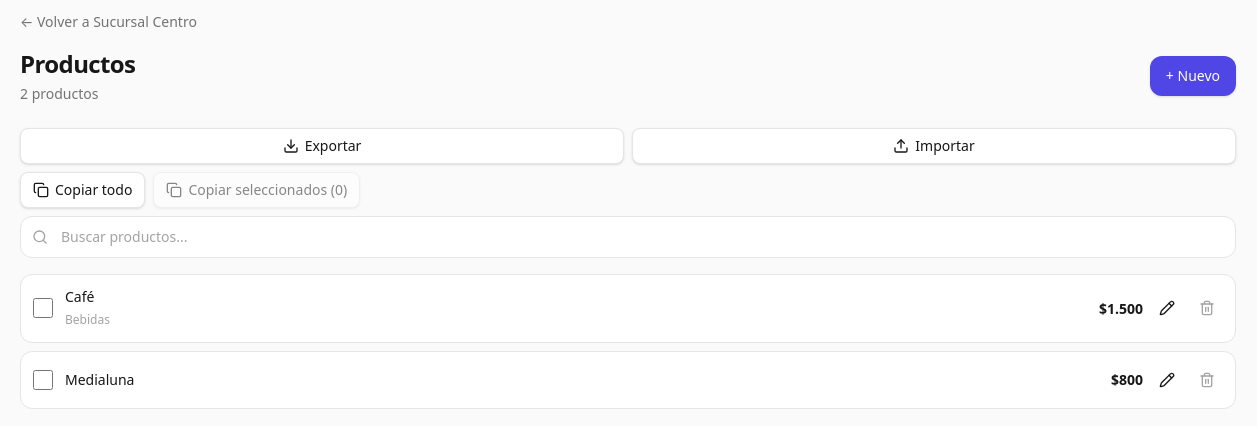
Test: ProductList › should filter products by name
The image size is (1257, 426).
Expected: the text "Café" is shown, [65, 287, 94, 306]
Type "media" into the field with placeholder "Buscar productos..." at (628, 237), box [20, 216, 1236, 258]
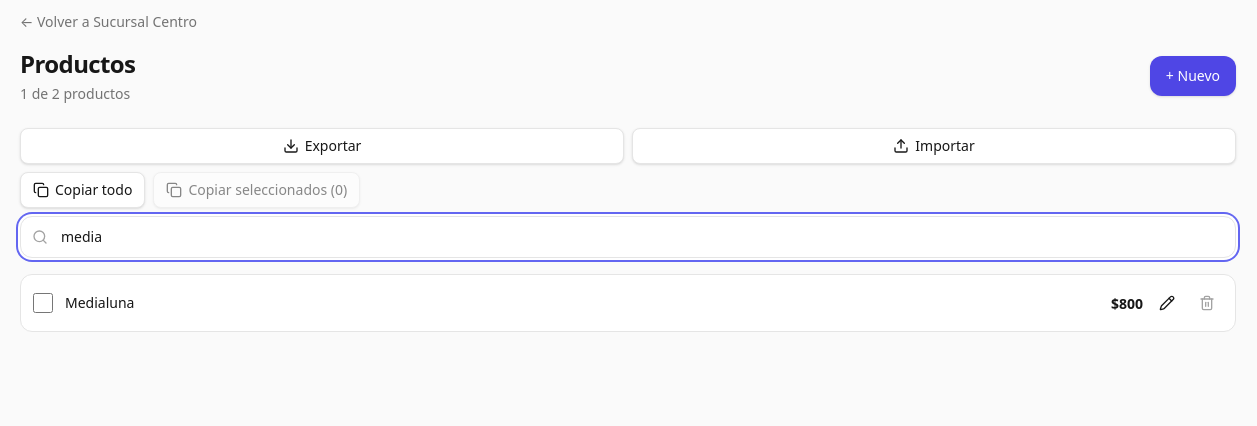
Expected: the text "Medialuna" is shown, [65, 293, 134, 312]
Expected: the text "Café" is gone
Expected: the text "1 de 2 productos" is shown, [20, 84, 136, 104]
